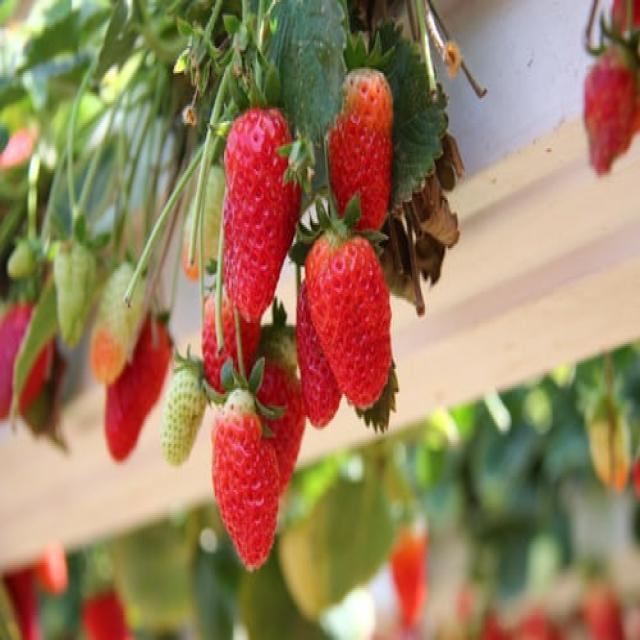ripe: (222, 106, 301, 320), (304, 232, 392, 406), (210, 389, 280, 569), (104, 310, 173, 461), (330, 64, 392, 232), (584, 35, 640, 178)
unripe: (90, 258, 144, 384), (181, 166, 227, 282), (54, 240, 96, 350), (163, 367, 208, 463)
